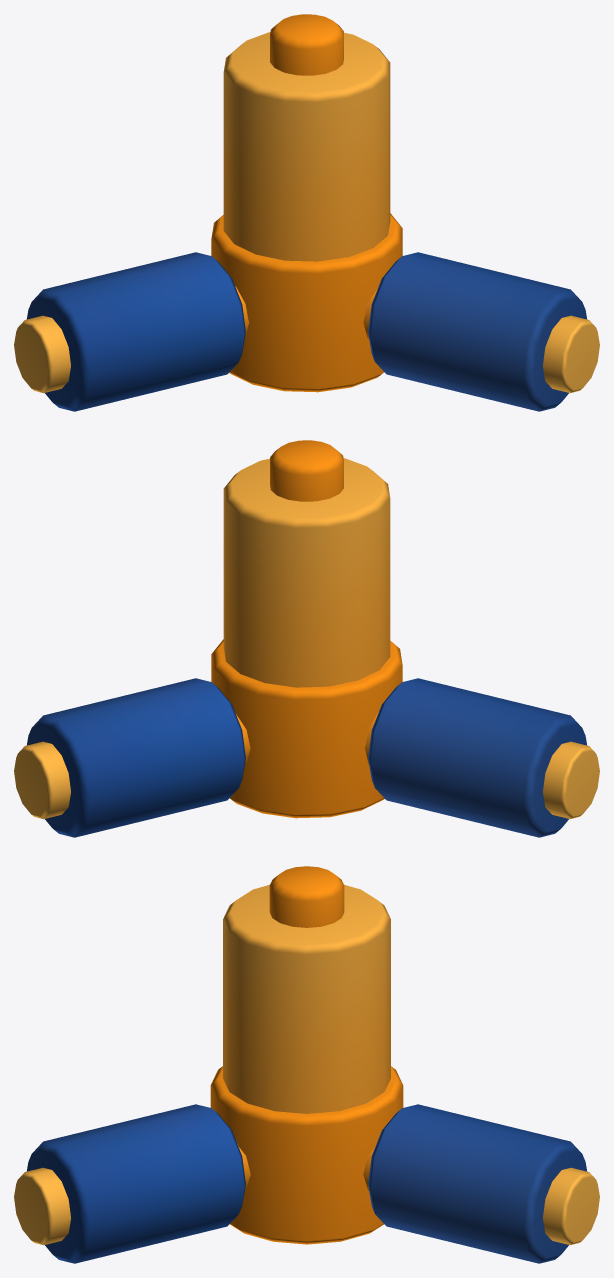
File: Spinner_3.fbx
3 views of the same model, one above another, from view 1: azimuth 30°, elevation 25°; view 2: azimuth 150°, elevation 25°; view 3: azimuth 270°, elevation 25° (orthographic).
Visible parts, largest first — view 1: Spinner 3; view 2: Spinner 3; view 3: Spinner 3.
Boxes of the visible parts, box(x1,y1,x2,y2) form: Spinner 3: box(14, 14, 599, 411); Spinner 3: box(14, 440, 599, 837); Spinner 3: box(14, 866, 599, 1263).
Bounding box in the file's own units: 161 × 113 × 183.
